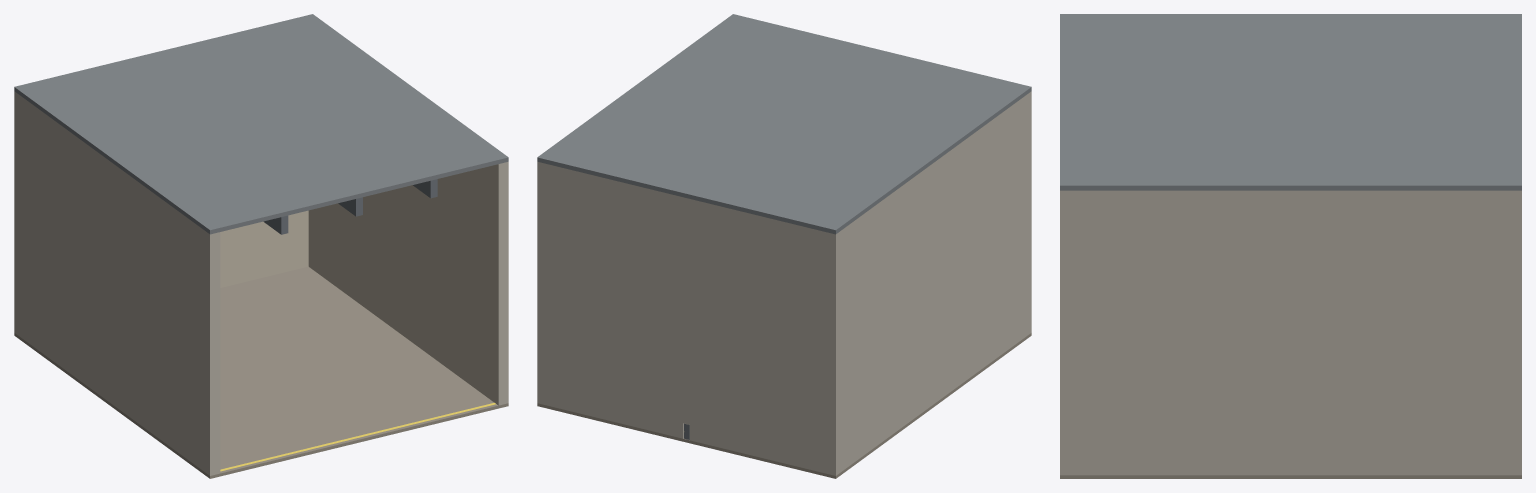
Rendered from mech_hangar.glb.
3 views of the same model, side by side, from view 1: azimuth 30°, elevation 25°; view 2: azimuth 150°, elevation 25°; view 3: azimuth 270°, elevation 25° (orthographic). The views are drawn at different scales.
Visible parts, largest first — view 1: LOD0; view 2: LOD0; view 3: LOD0.
Boxes of the visible parts, box(x1,y1,x2,y2) form: LOD0: box(14, 14, 508, 478); LOD0: box(537, 14, 1031, 478); LOD0: box(1060, 14, 1521, 478).
Size of what is drawn, in the model's own units: 44 by 35.02 by 50.
